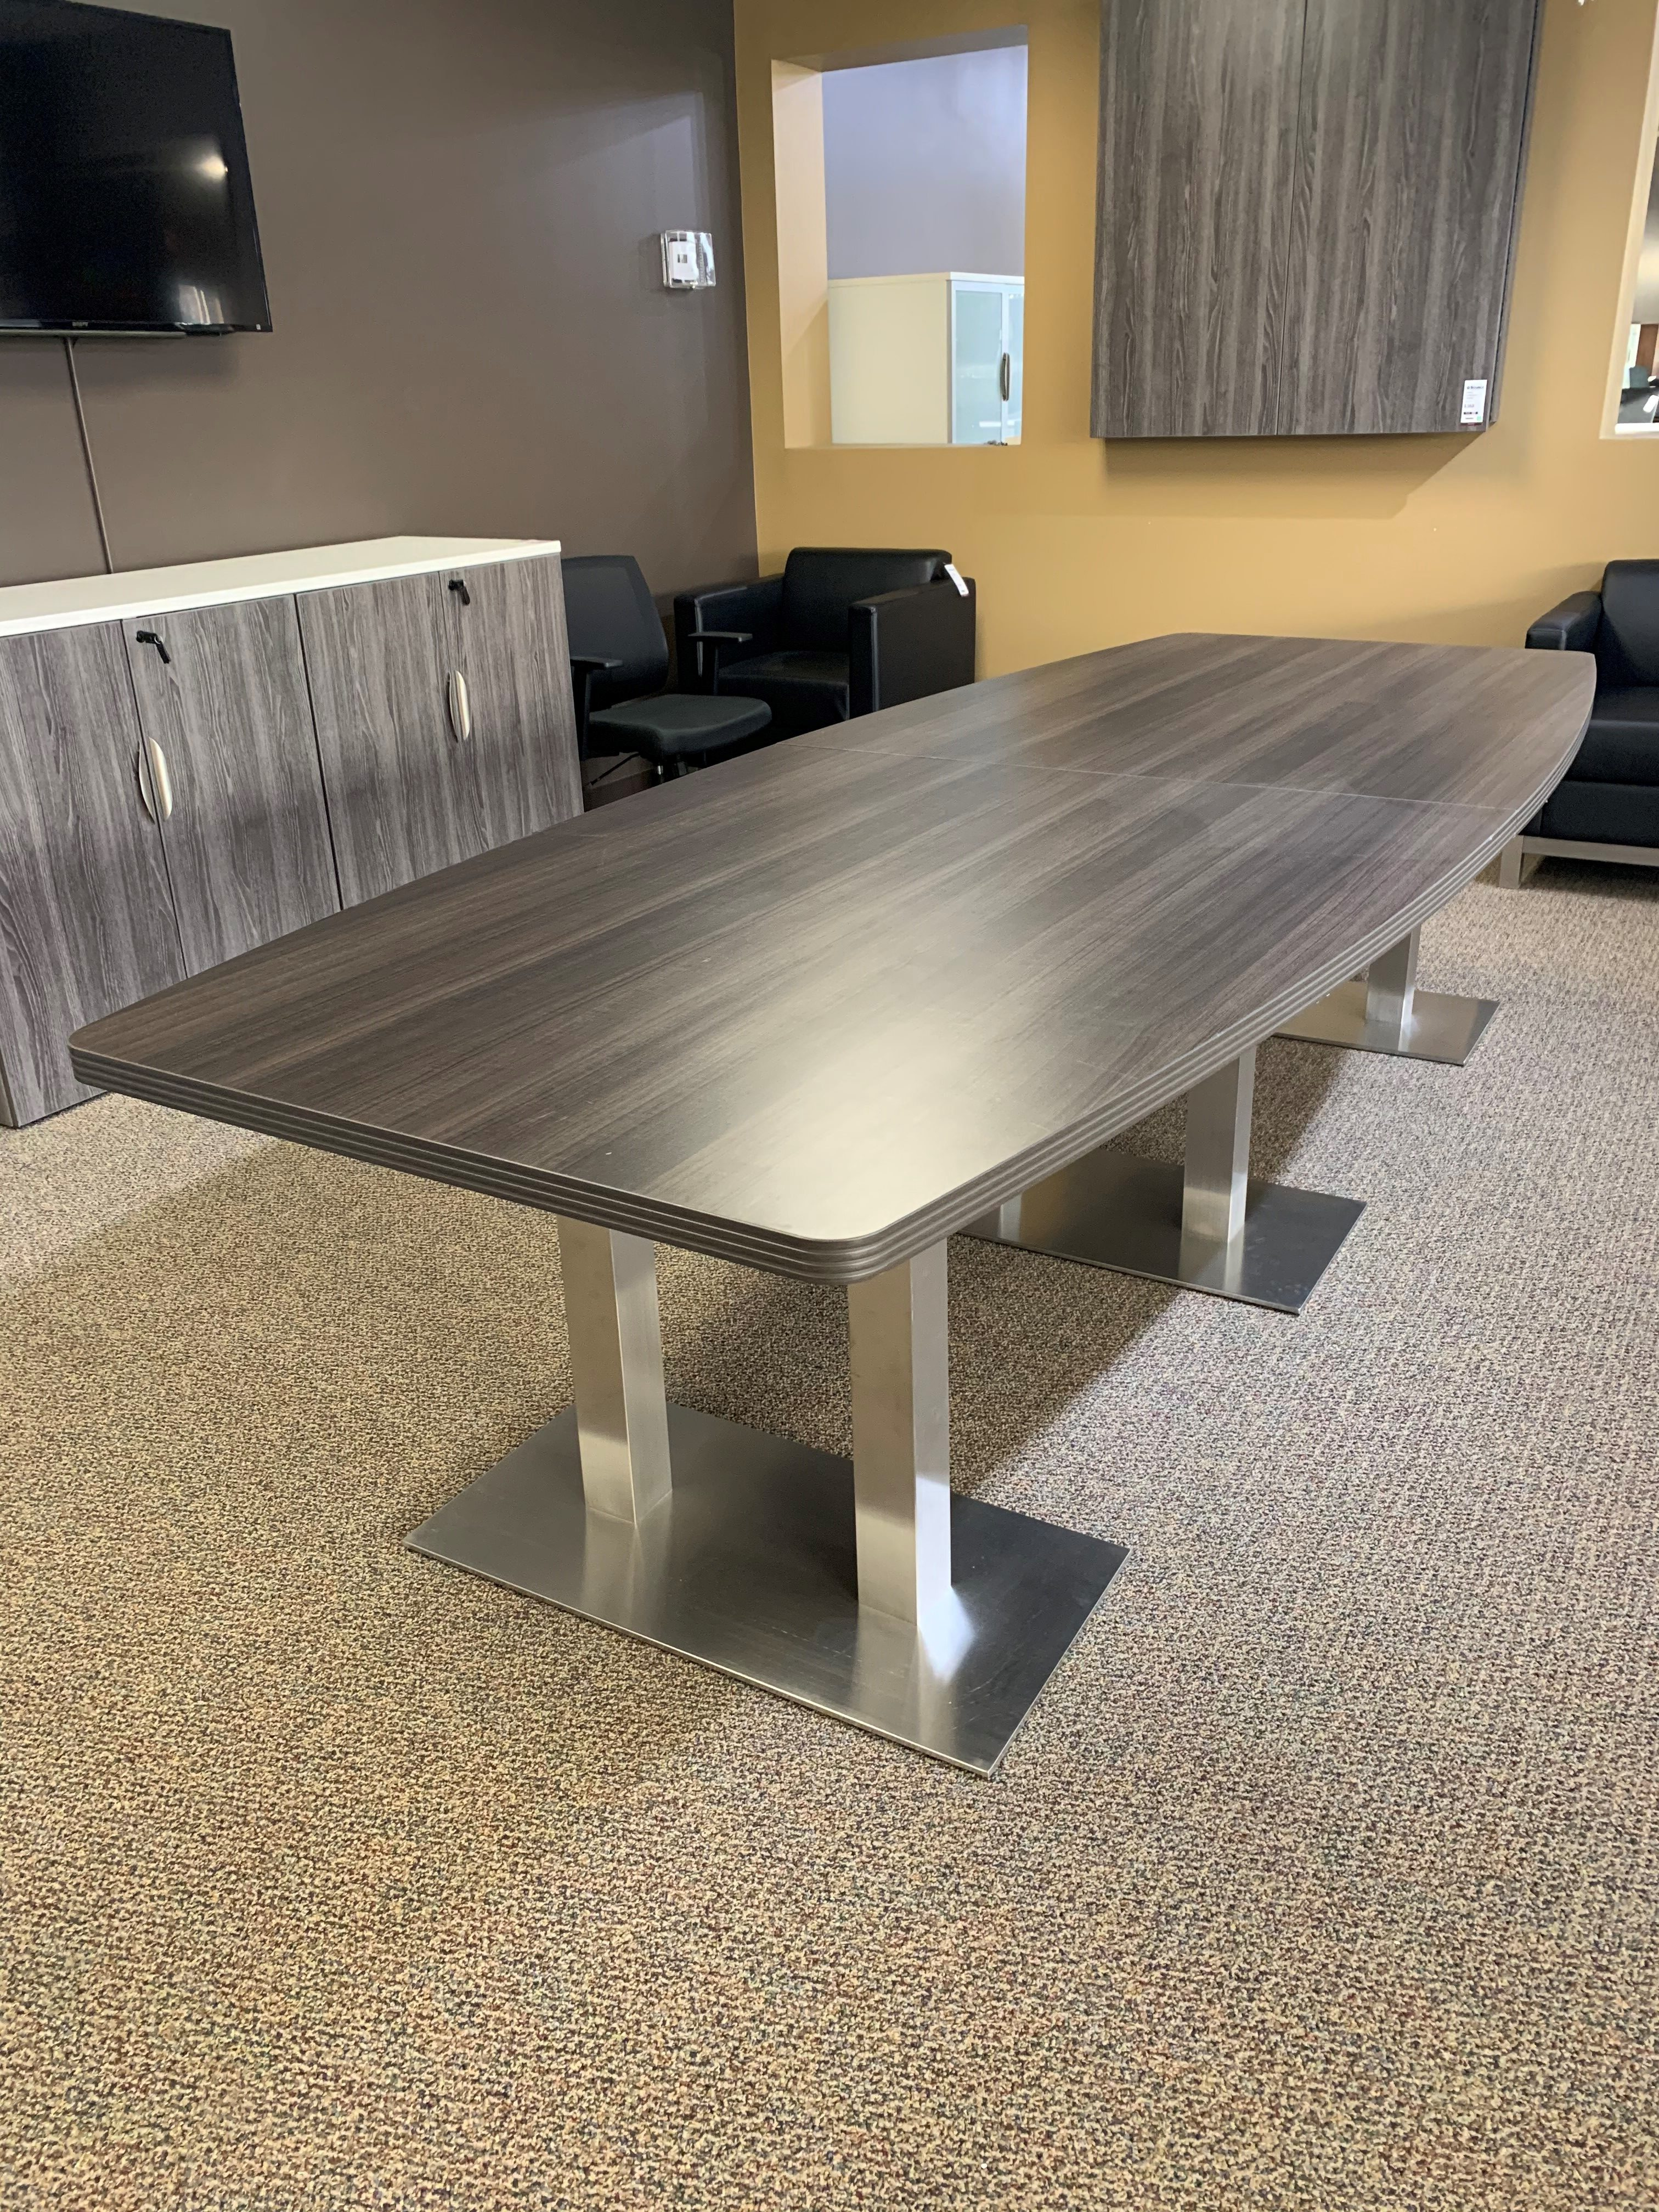conference_table: (75, 633, 1602, 1778)
